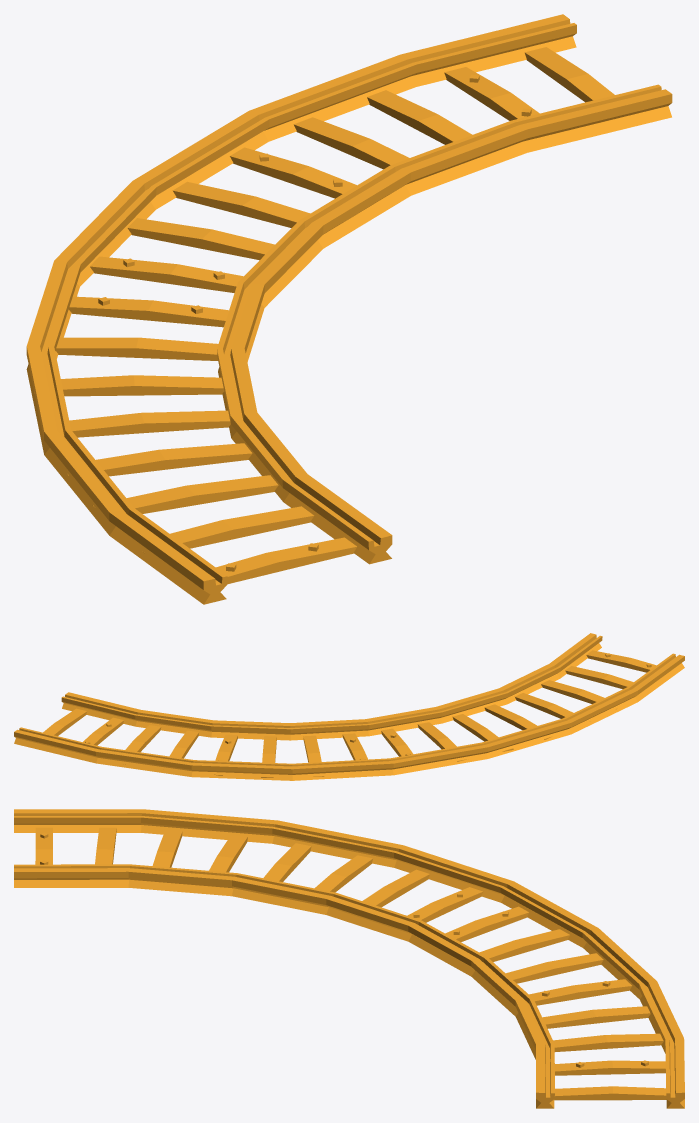
Rendered from SM_Rail_Tram_Turn_5m.fbx.
3 renders of one model, top to bottom at view 1: azimuth 30°, elevation 25°; view 2: azimuth 150°, elevation 25°; view 3: azimuth 270°, elevation 25°, orthographic. The views are drawn at different scales.
Parts seen in each view (by area): view 1: rail-tram-turn-5m; view 2: rail-tram-turn-5m; view 3: rail-tram-turn-5m.
Boxes of the visible parts, x1,y1,x2,y2 form: rail-tram-turn-5m: (26, 14, 672, 604); rail-tram-turn-5m: (14, 633, 684, 780); rail-tram-turn-5m: (14, 809, 684, 1108).
Size of the model in its own units: 5.62 by 0.1529 by 5.62.
